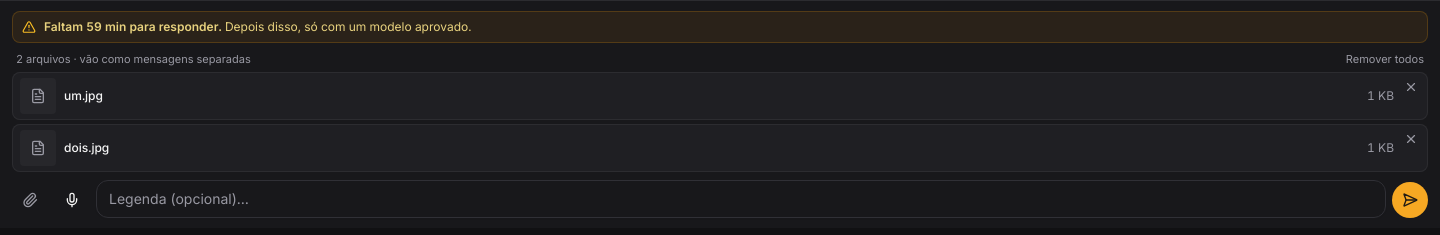
Composer — anexos › remover durante o processamento não faz o arquivo voltar
This screenshot has width=1440, height=235.
Expected: the text "2 arquivos · vão como mensagens separadas" is shown, x1=16 y1=51 x2=251 y2=68
Click the button named "Remover um.jpg" in the row of "um.jpg". click: {"x": 1411, "y": 86}
box: x1=1402 y1=78 x2=1420 y2=96
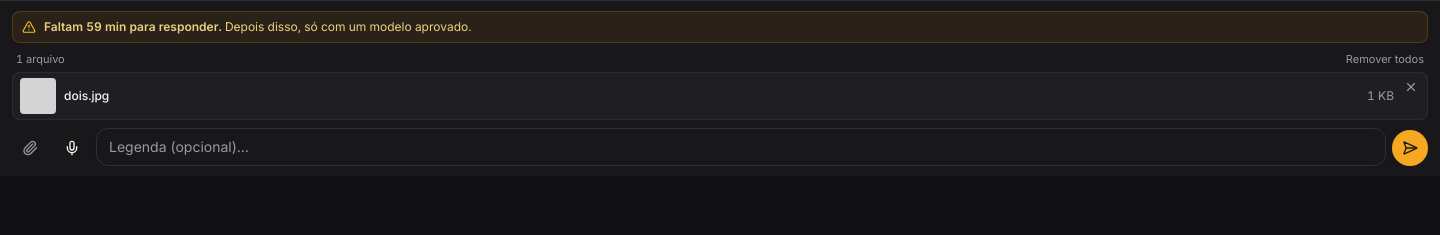
Result: the number of list items is 1 at x1=12 y1=72 x2=1428 y2=120
